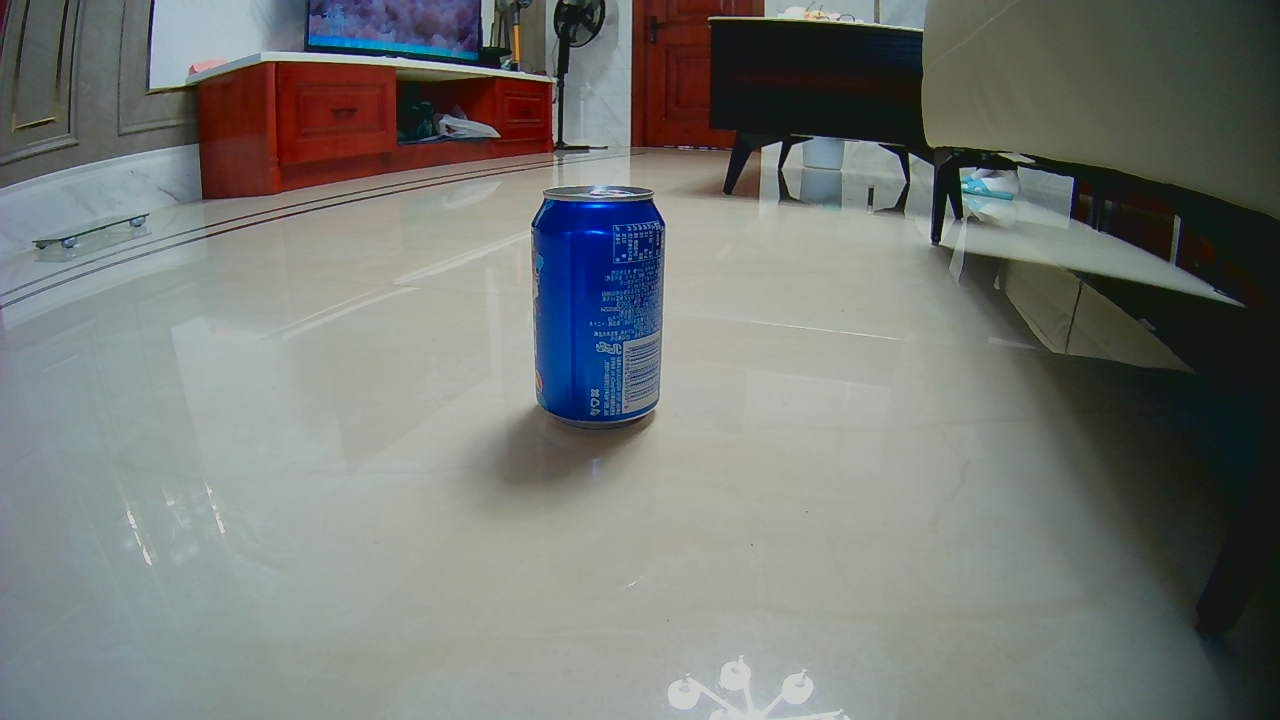pessi: (533, 185, 655, 421)
